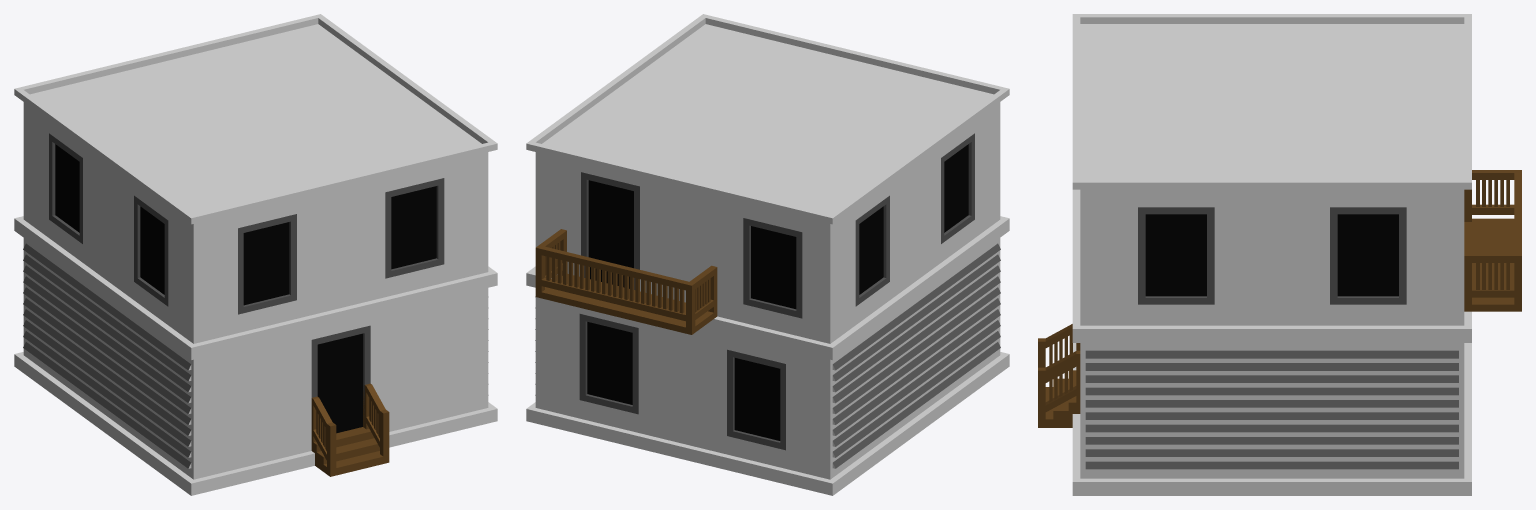
The model's file is Building1.fbx.
3 views of the same model, side by side, from view 1: azimuth 30°, elevation 25°; view 2: azimuth 150°, elevation 25°; view 3: azimuth 270°, elevation 25° (orthographic). The views are drawn at different scales.
Parts seen in each view (by area): view 1: building; view 2: building; view 3: building.
Boxes of the visible parts, x1=… form: building: x1=14, y1=14, x2=497, y2=495; building: x1=526, y1=14, x2=1009, y2=495; building: x1=1038, y1=14, x2=1521, y2=495.
Bounding box in the file's own units: 520 × 450 × 630.
